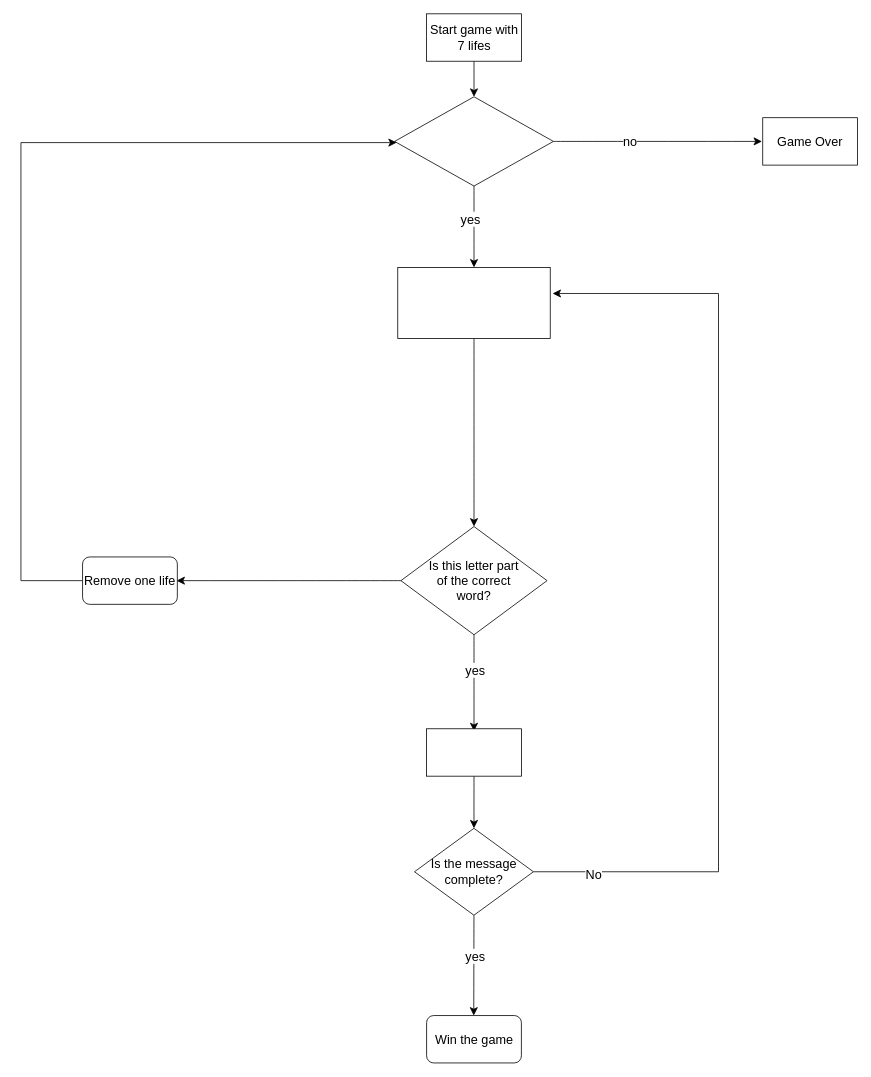
Some shapes in this 871 by 1077 pixel diagram are drawn without their labels. Here are the shapes that lost their labels. From the top down, the centre of each, then its label:
point 473,141: User still have some life?
point 473,303: User needs to insert a letter
point 473,752: add the word to the secret message
